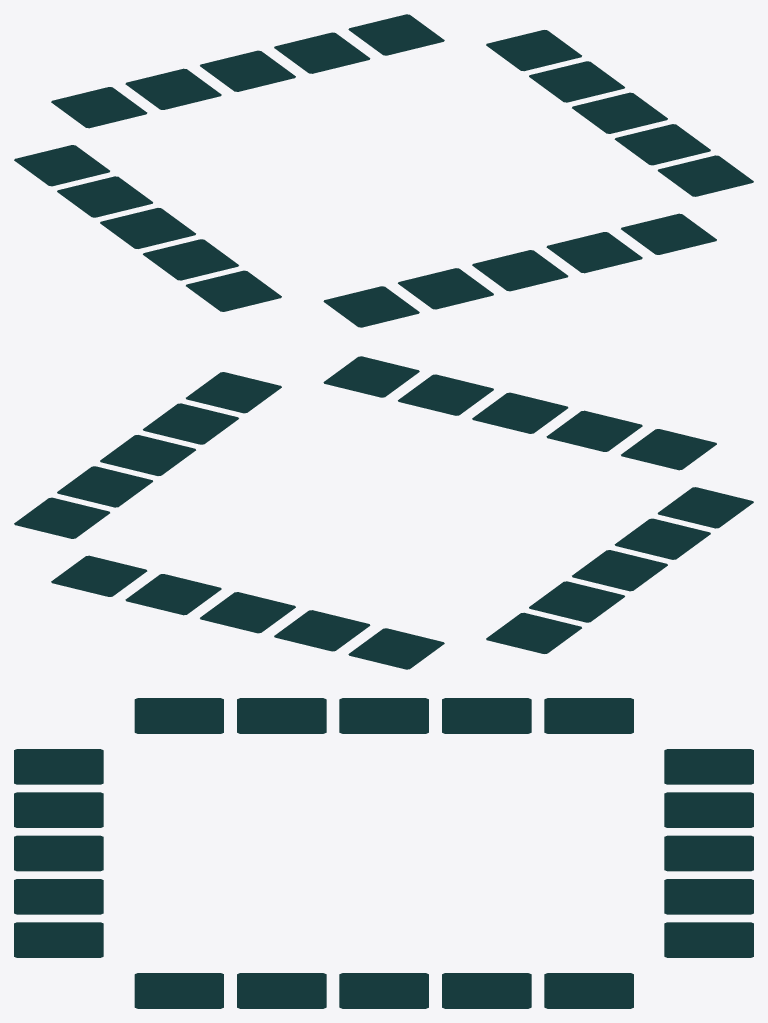
File: Map_theme02_02.fbx
3 renders of one model, top to bottom at view 1: azimuth 30°, elevation 25°; view 2: azimuth 150°, elevation 25°; view 3: azimuth 270°, elevation 25°, orthographic. The views are drawn at different scales.
Visible parts, largest first — view 1: Map_theme02_02; view 2: Map_theme02_02; view 3: Map_theme02_02.
Part boxes in pixels (left/top/right/bottom): Map_theme02_02: left=14, top=14, right=753, bottom=327; Map_theme02_02: left=14, top=356, right=753, bottom=669; Map_theme02_02: left=14, top=698, right=753, bottom=1008.
Bounding box in the file's own units: 7.18 × 1.49e-08 × 7.22.
